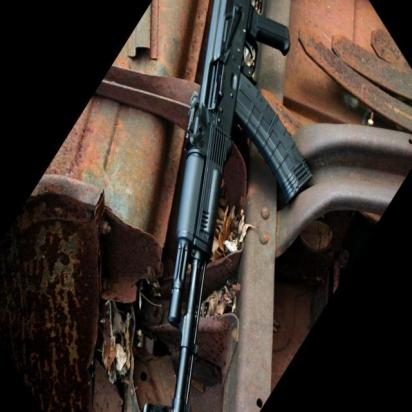Gun: (167, 0, 313, 412)
